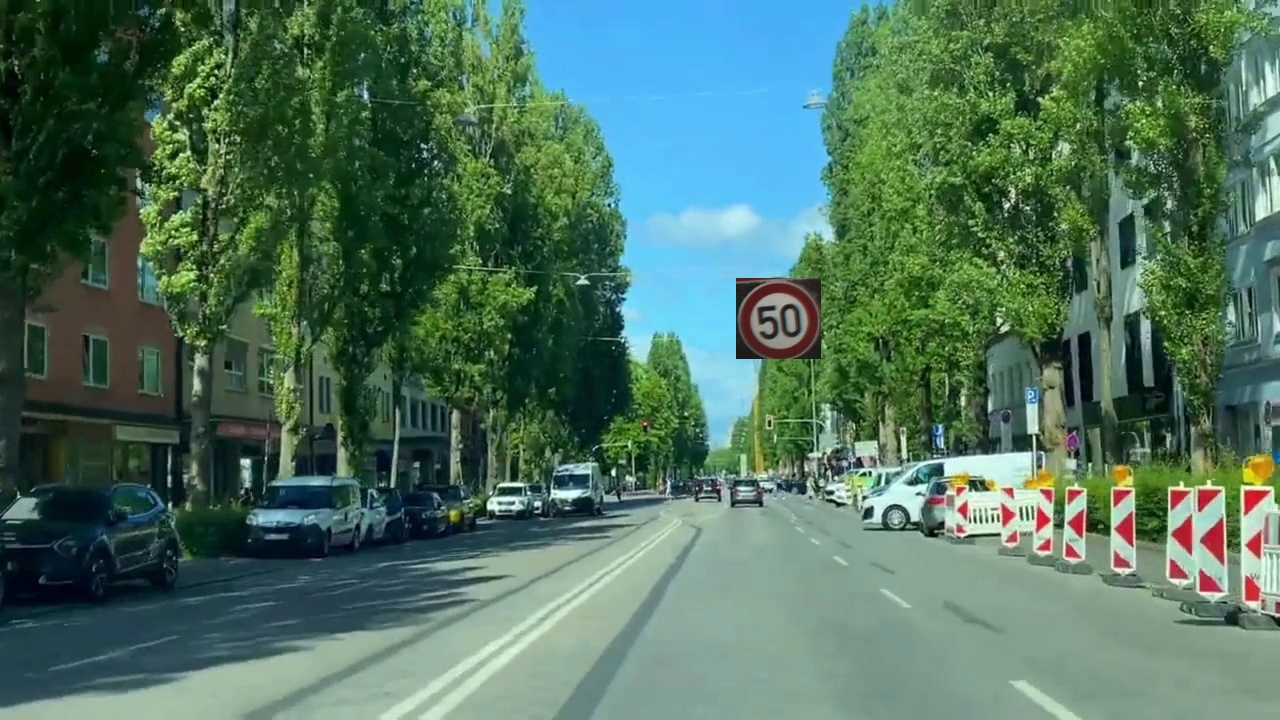Speed 50: (736, 278, 821, 359)
